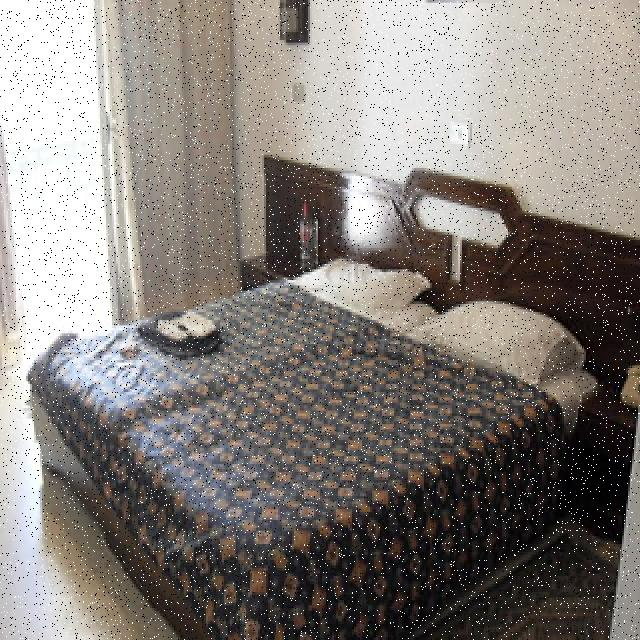bed: (32, 251, 590, 633)
